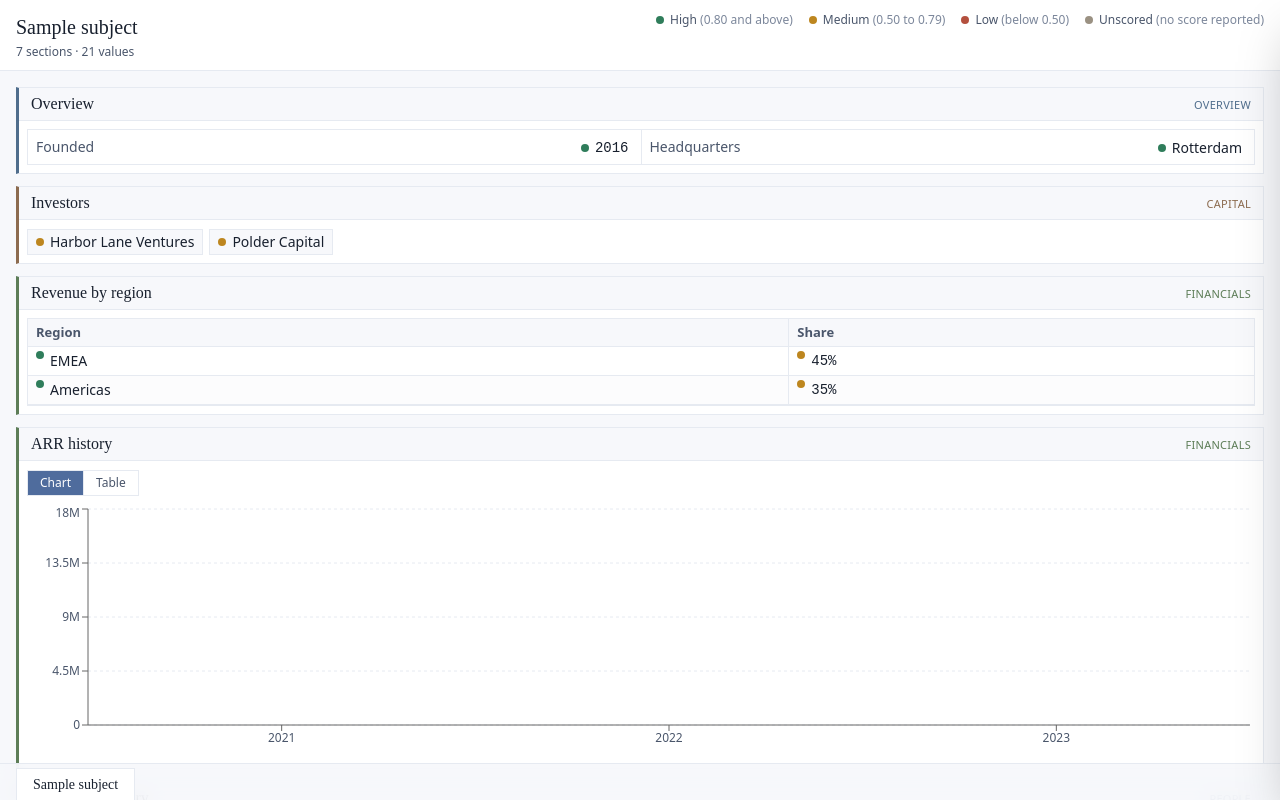
Test: click-to-evidence › opens a value's source sentence and closes cleanly
Click the button "2016" at (605, 148), box [577, 136, 632, 160]
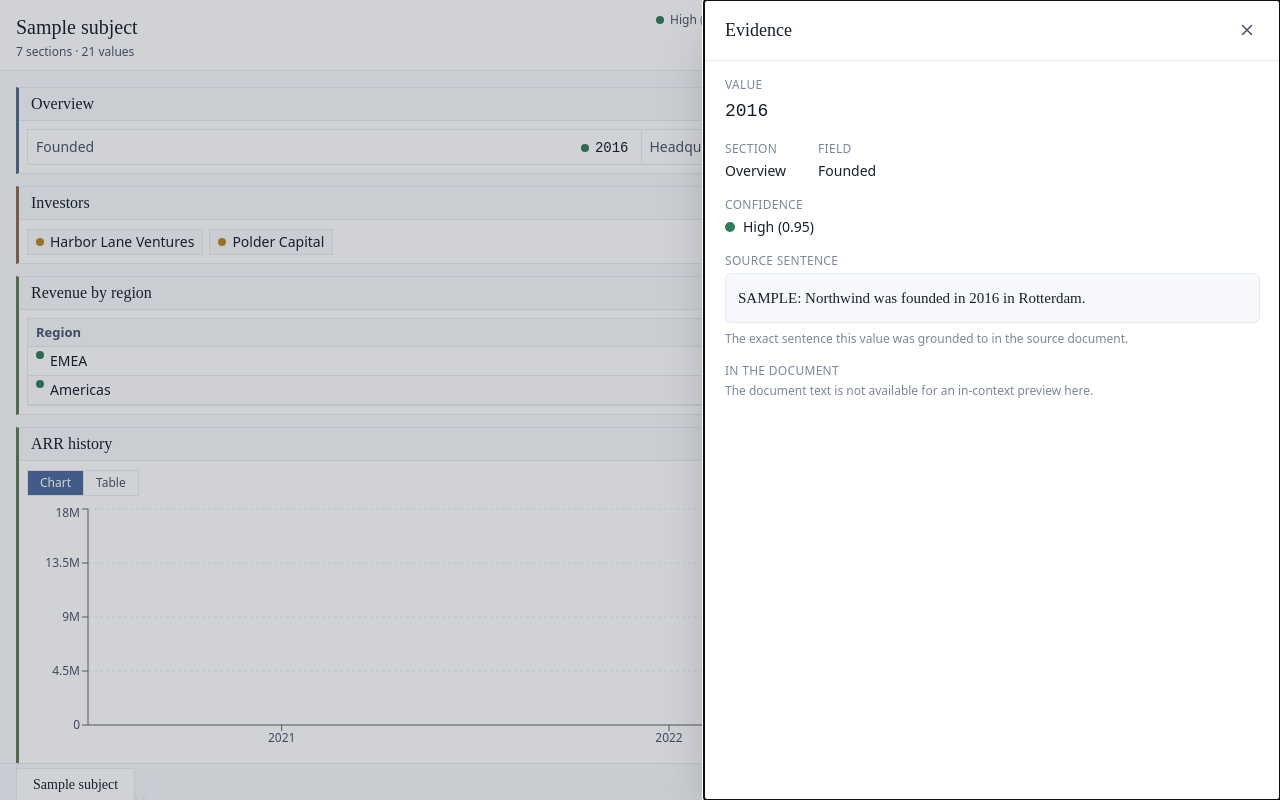
Check: the text "SAMPLE: Northwind was founded in 2016 in Rotterdam." is shown, box [725, 273, 1260, 323]
Check: the text "Overview" is shown, box [725, 161, 786, 181]
Check: the text "Founded" is shown, box [818, 161, 876, 181]
Click the button named "Close evidence" at (1247, 30), box [1234, 17, 1260, 43]
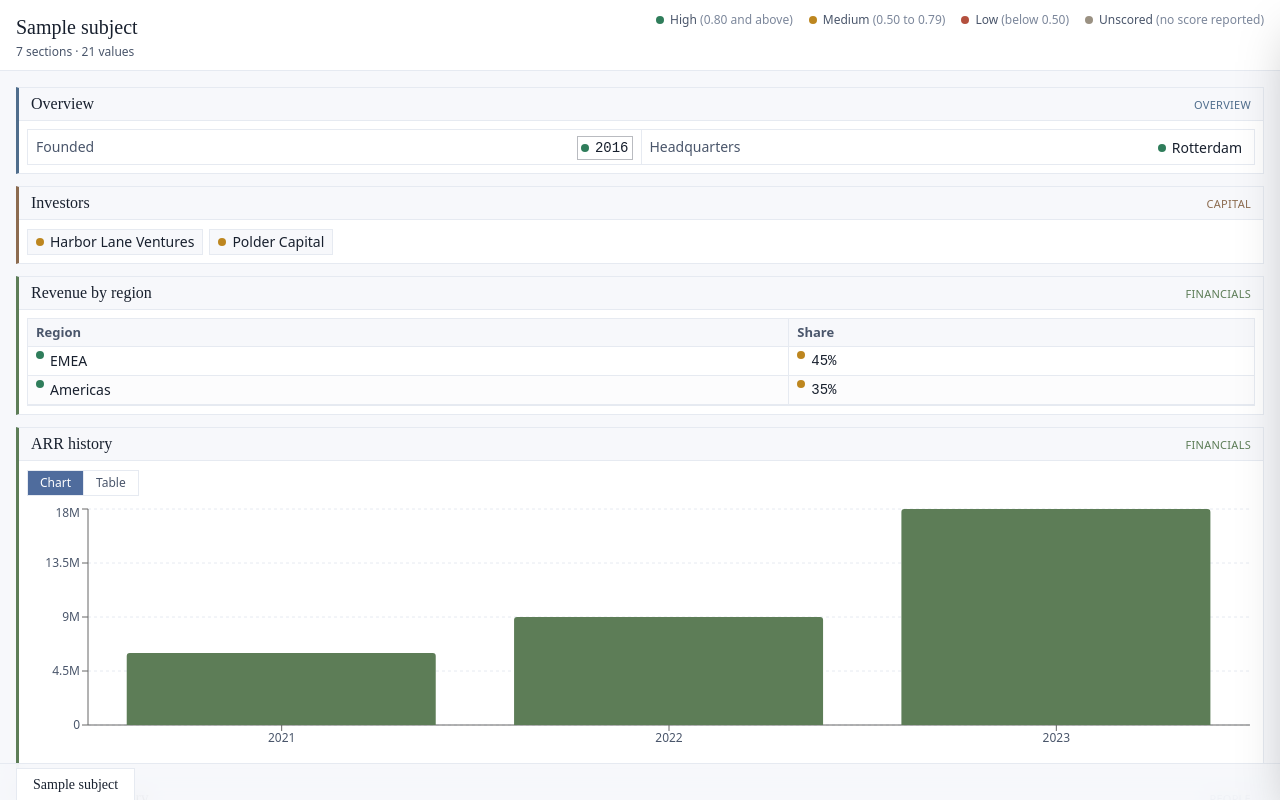
Check: the text "Northwind was founded in 2016 in Rotterdam" is gone
